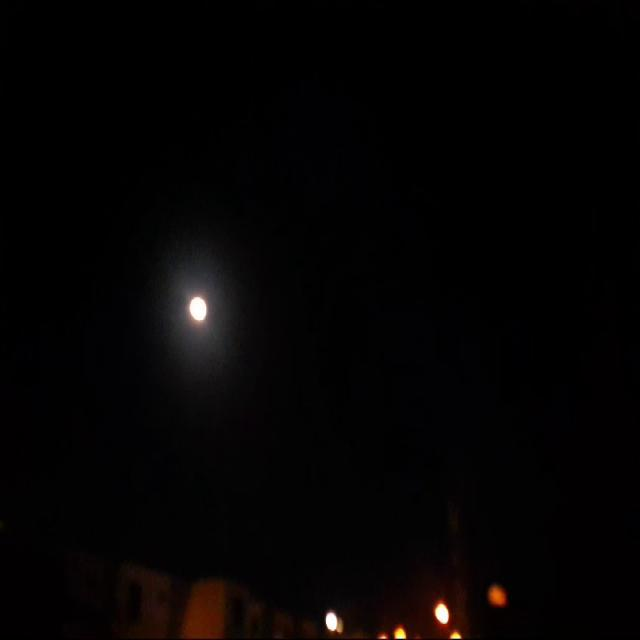moon: (187, 285, 209, 324)
